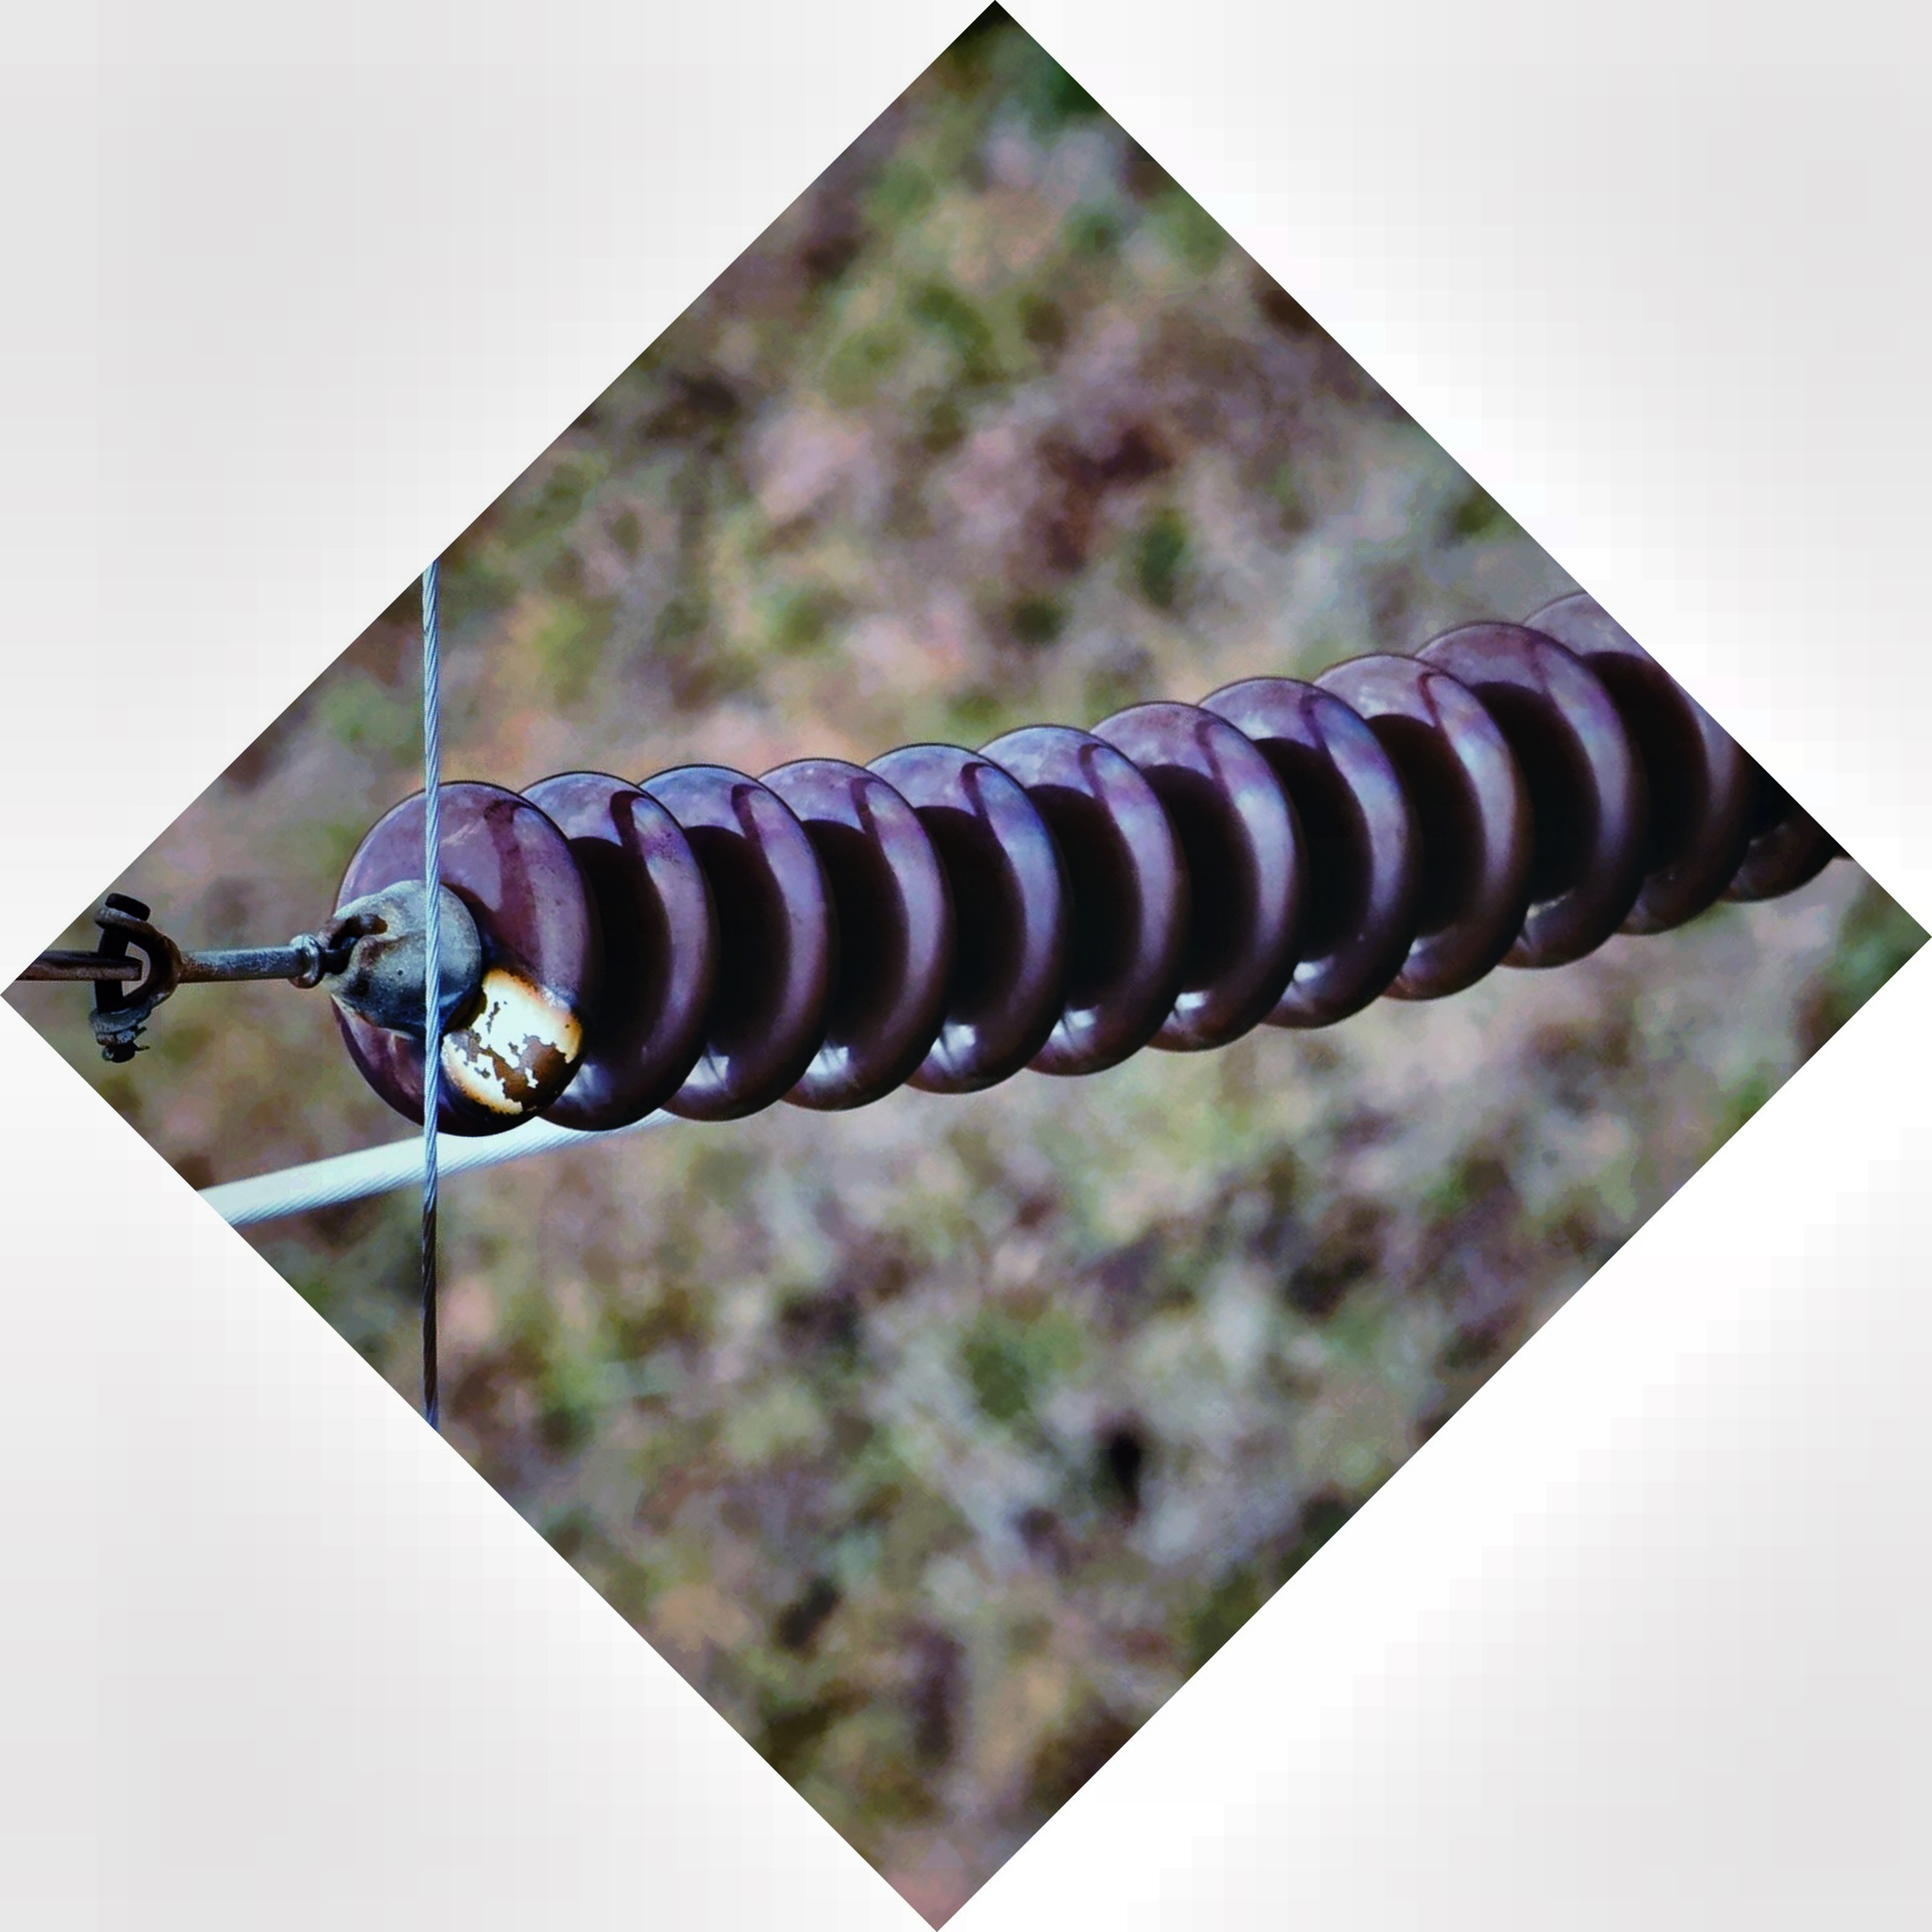Insulator flashover: (308, 764, 607, 1148)
